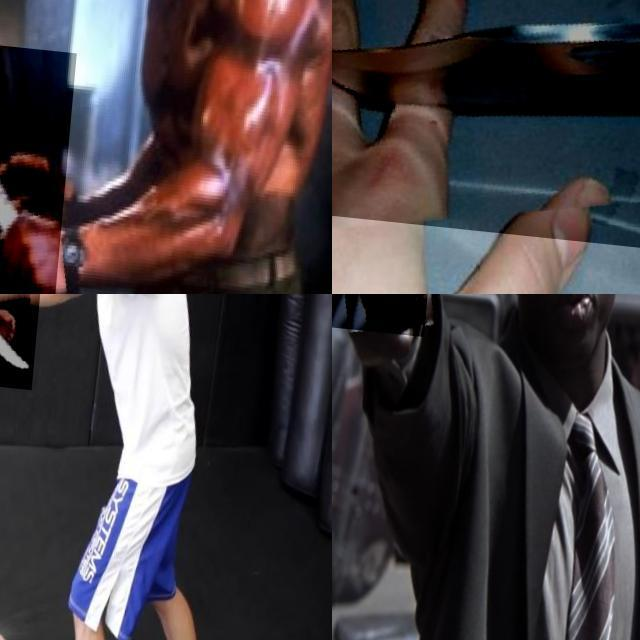-: (332, 0, 640, 244), (0, 33, 83, 294), (0, 172, 78, 294), (0, 294, 51, 384)
gun-knife-thesis - v11 Yolov5 augmented: (332, 294, 444, 409)
